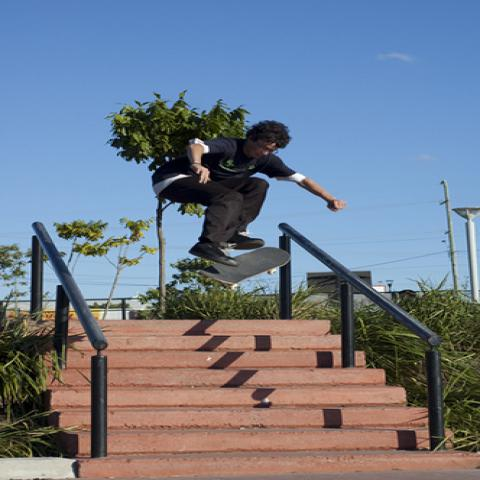truck: (8, 308, 102, 321)
